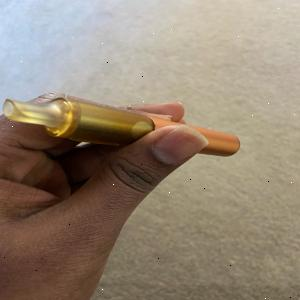Golden-E-Ciggirate: (1, 91, 255, 162)
